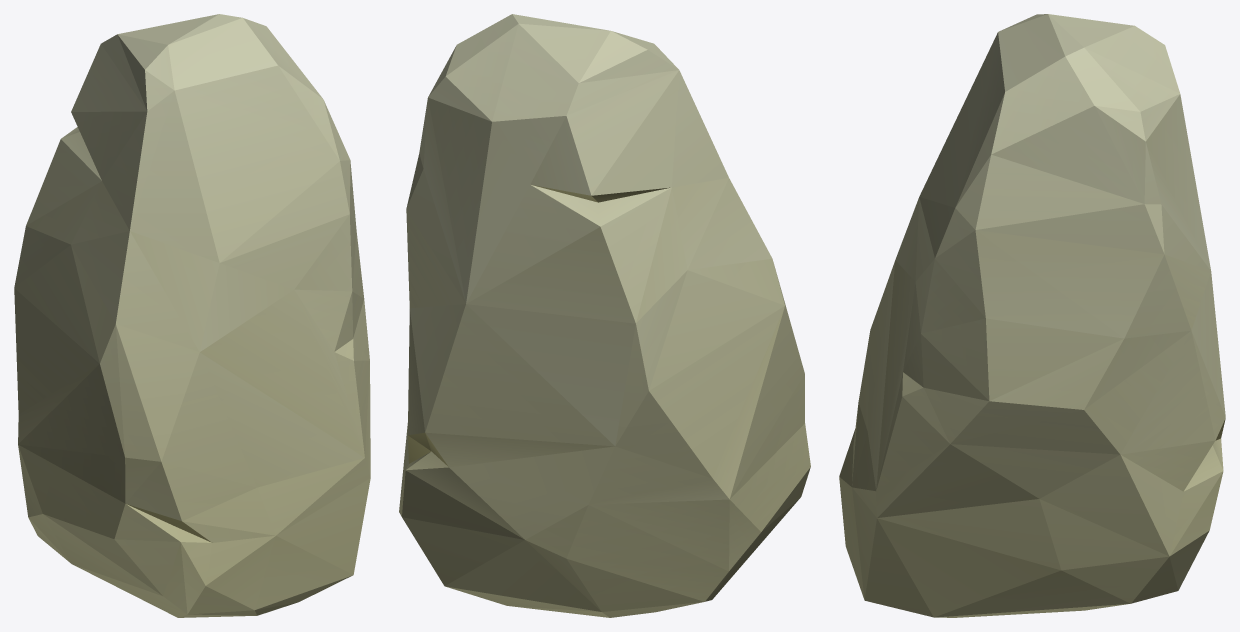
Rendered from Rock_03.fbx.
3 views of the same model, side by side, from view 1: azimuth 30°, elevation 25°; view 2: azimuth 150°, elevation 25°; view 3: azimuth 270°, elevation 25° (orthographic). The views are drawn at different scales.
Parts seen in each view (by area): view 1: Floating_Rock_1_Big_0_1.010; view 2: Floating_Rock_1_Big_0_1.010; view 3: Floating_Rock_1_Big_0_1.010.
Part boxes in pixels (x1,y1,x2,y2): Floating_Rock_1_Big_0_1.010: [14, 14, 370, 617]; Floating_Rock_1_Big_0_1.010: [399, 14, 810, 617]; Floating_Rock_1_Big_0_1.010: [839, 14, 1225, 617].
Size of the model in its own units: 107 by 177 by 111.
